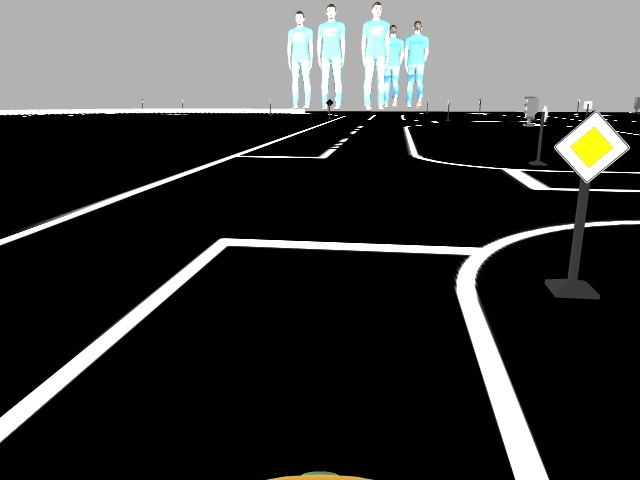Priority: (553, 109, 630, 184)
